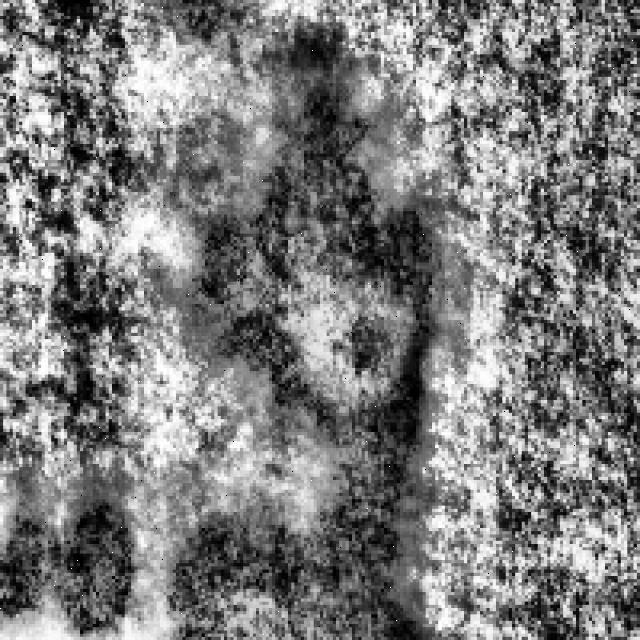Scratches: (182, 48, 464, 630), (35, 464, 157, 630)
